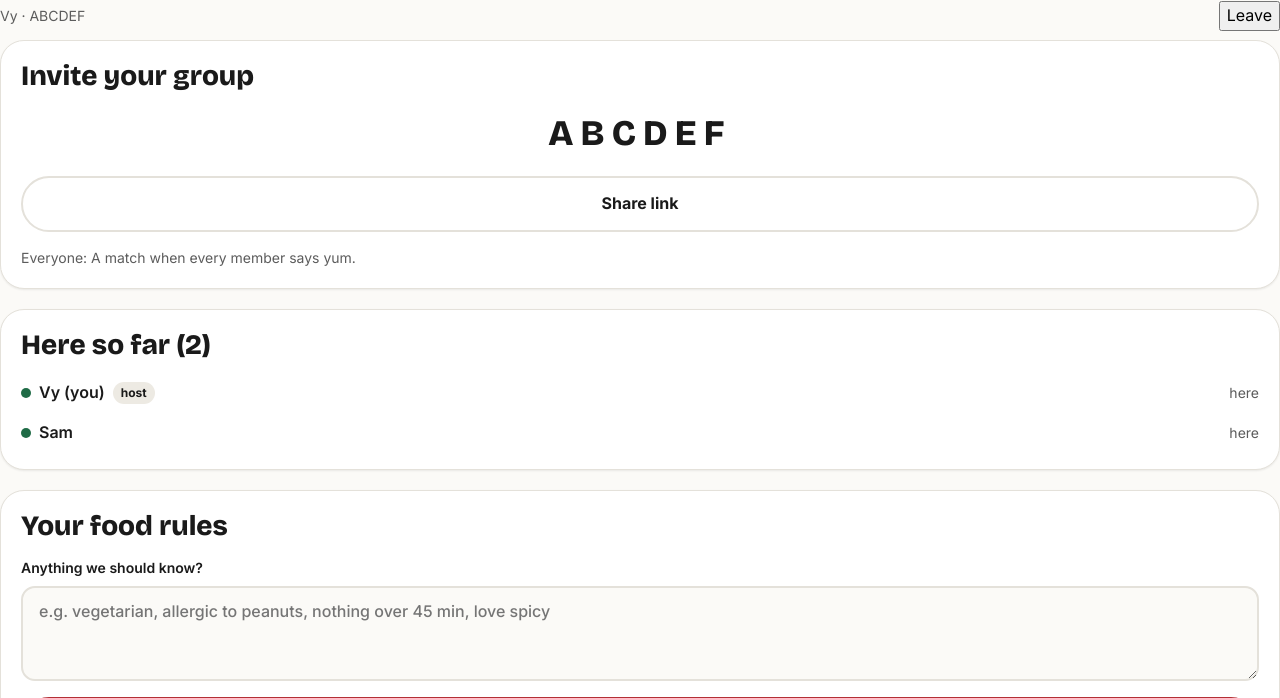
it: Leave › stays when cancelled
This screenshot has width=1280, height=698.
What coordinates should you click on to do the following:
click the button "Leave"
I would click on:
 (1249, 16)
Its box is [1219,1,1279,31].
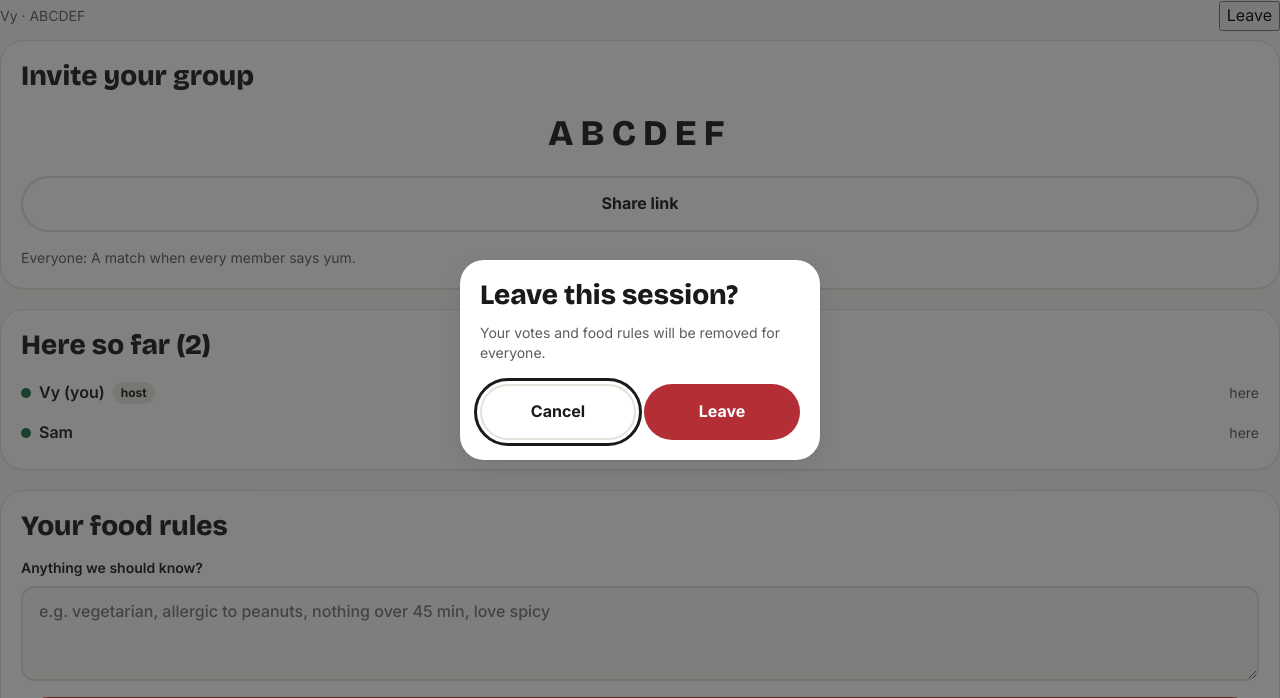
What coordinates should you click on to do the following:
click the button "Cancel"
I would click on:
 (558, 412)
Its box is [480,384,636,440].
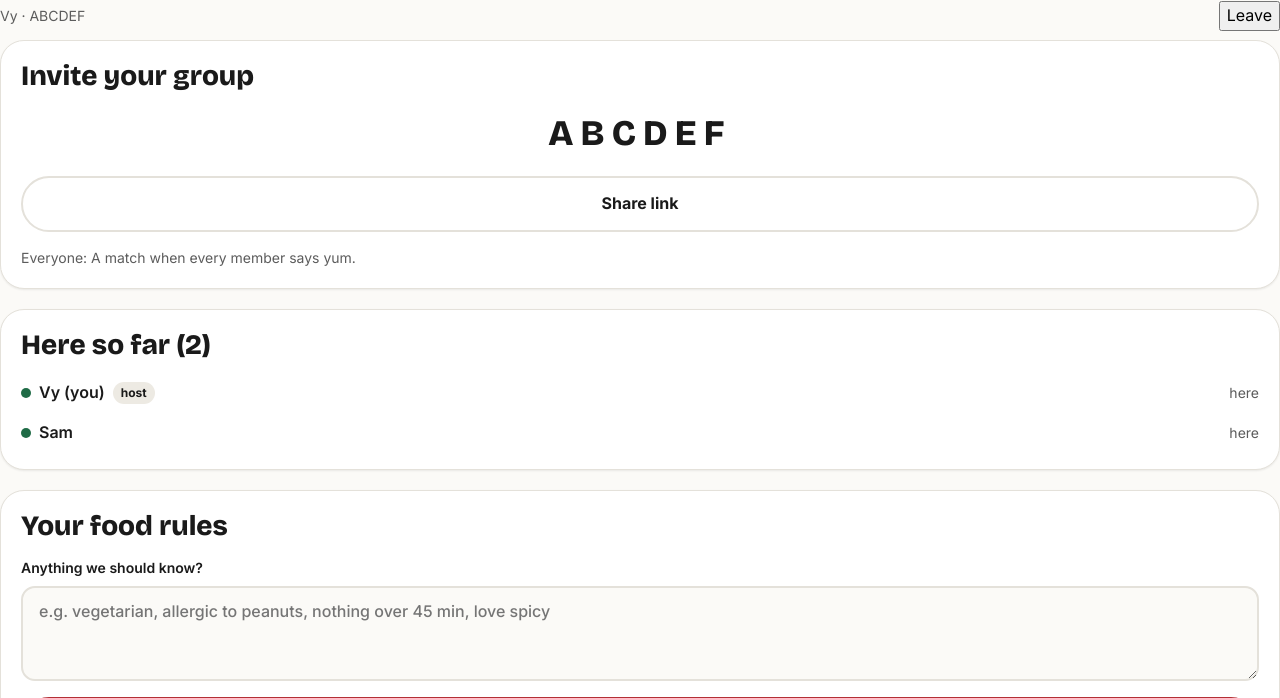
Expected: the dialog is gone
